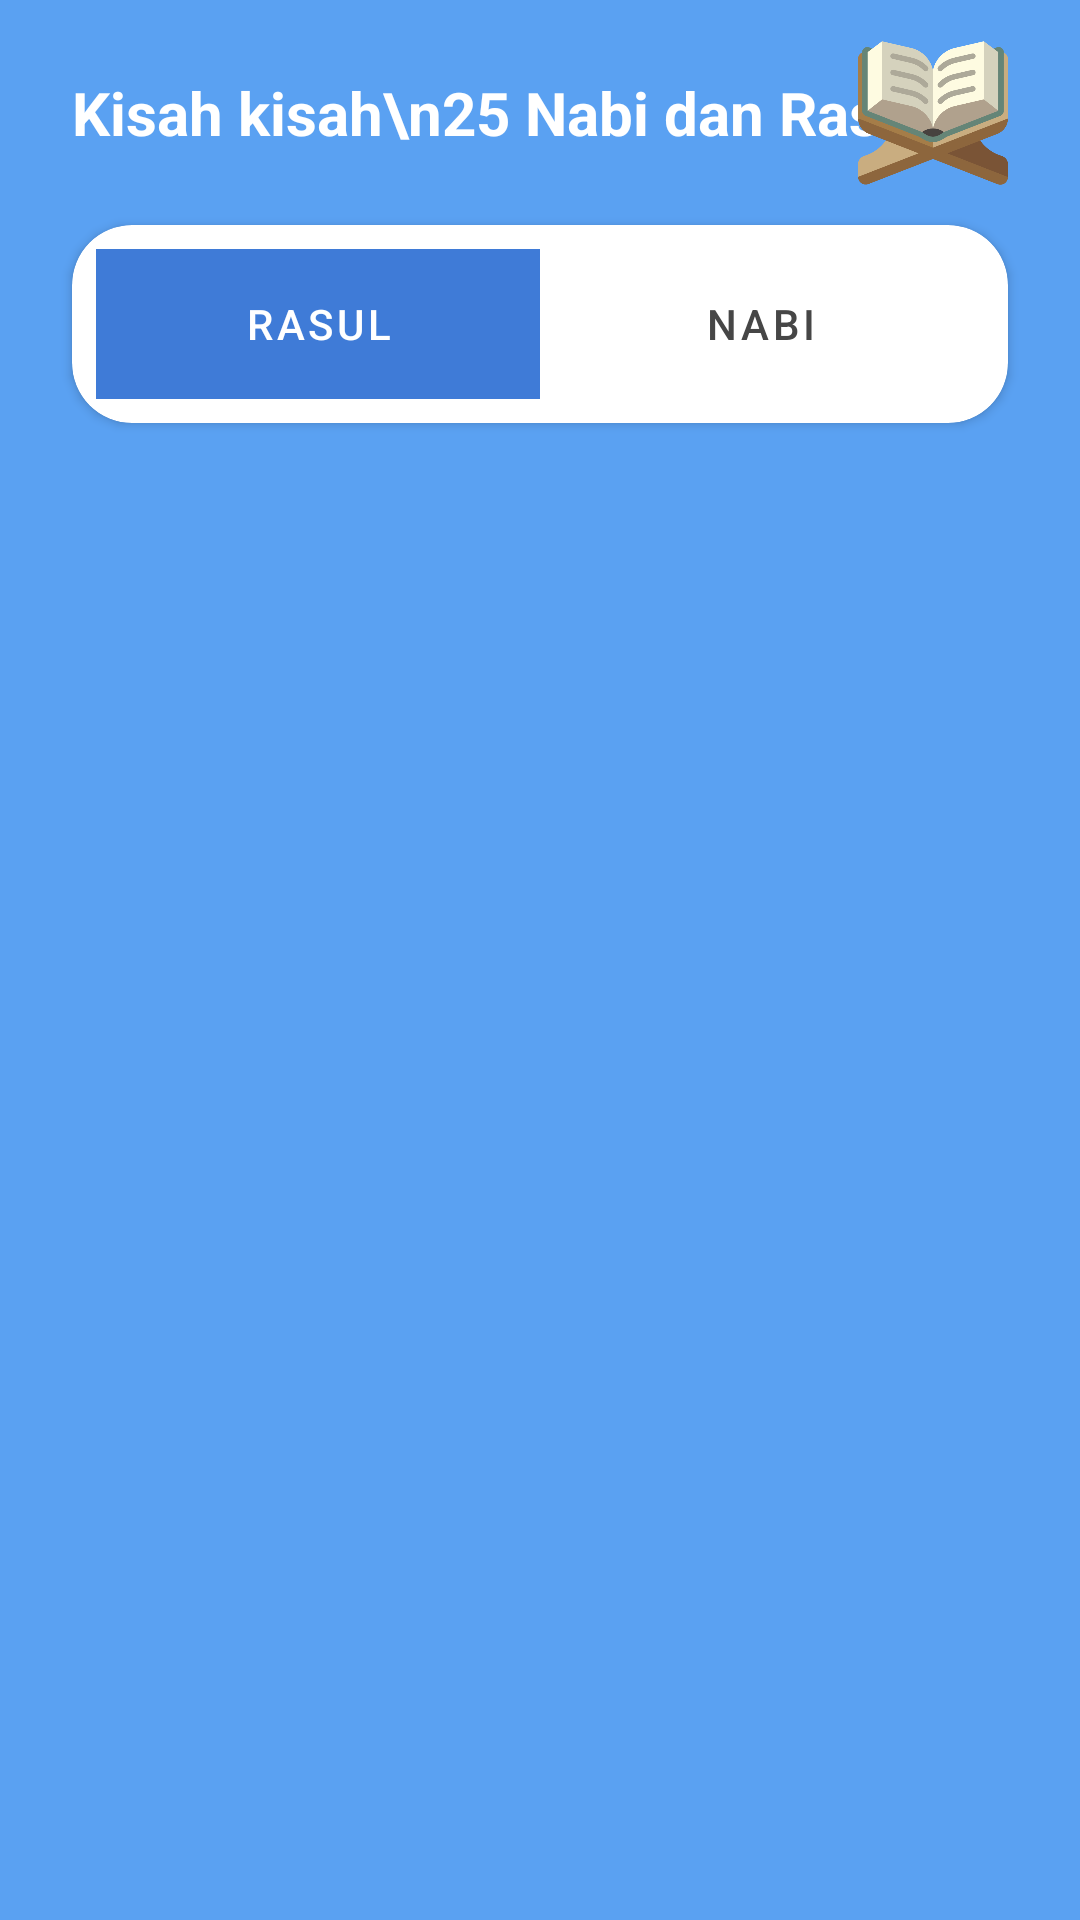

Where to tap for icons on this 1080w x 1920h app screen, as point (x, y):
koran: point (933, 113)
